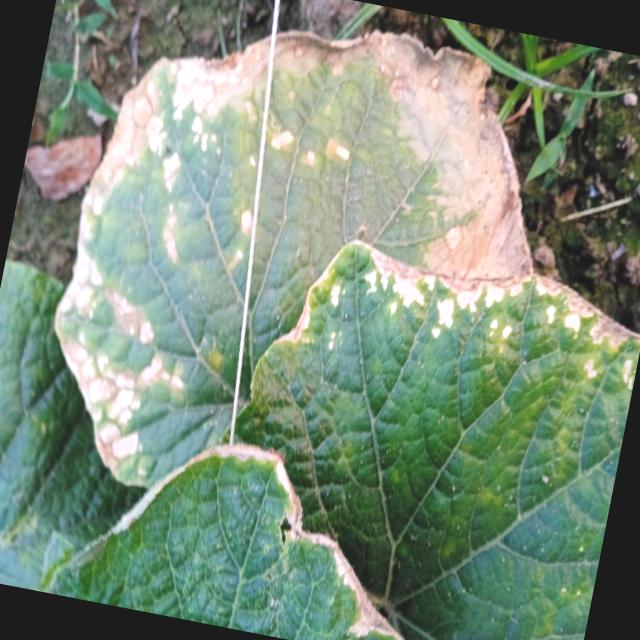cucumber_gummy: (23, 0, 580, 568), (188, 209, 640, 640), (37, 395, 475, 640)
